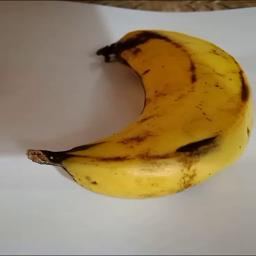Banana Semifresh: (28, 23, 255, 203)
